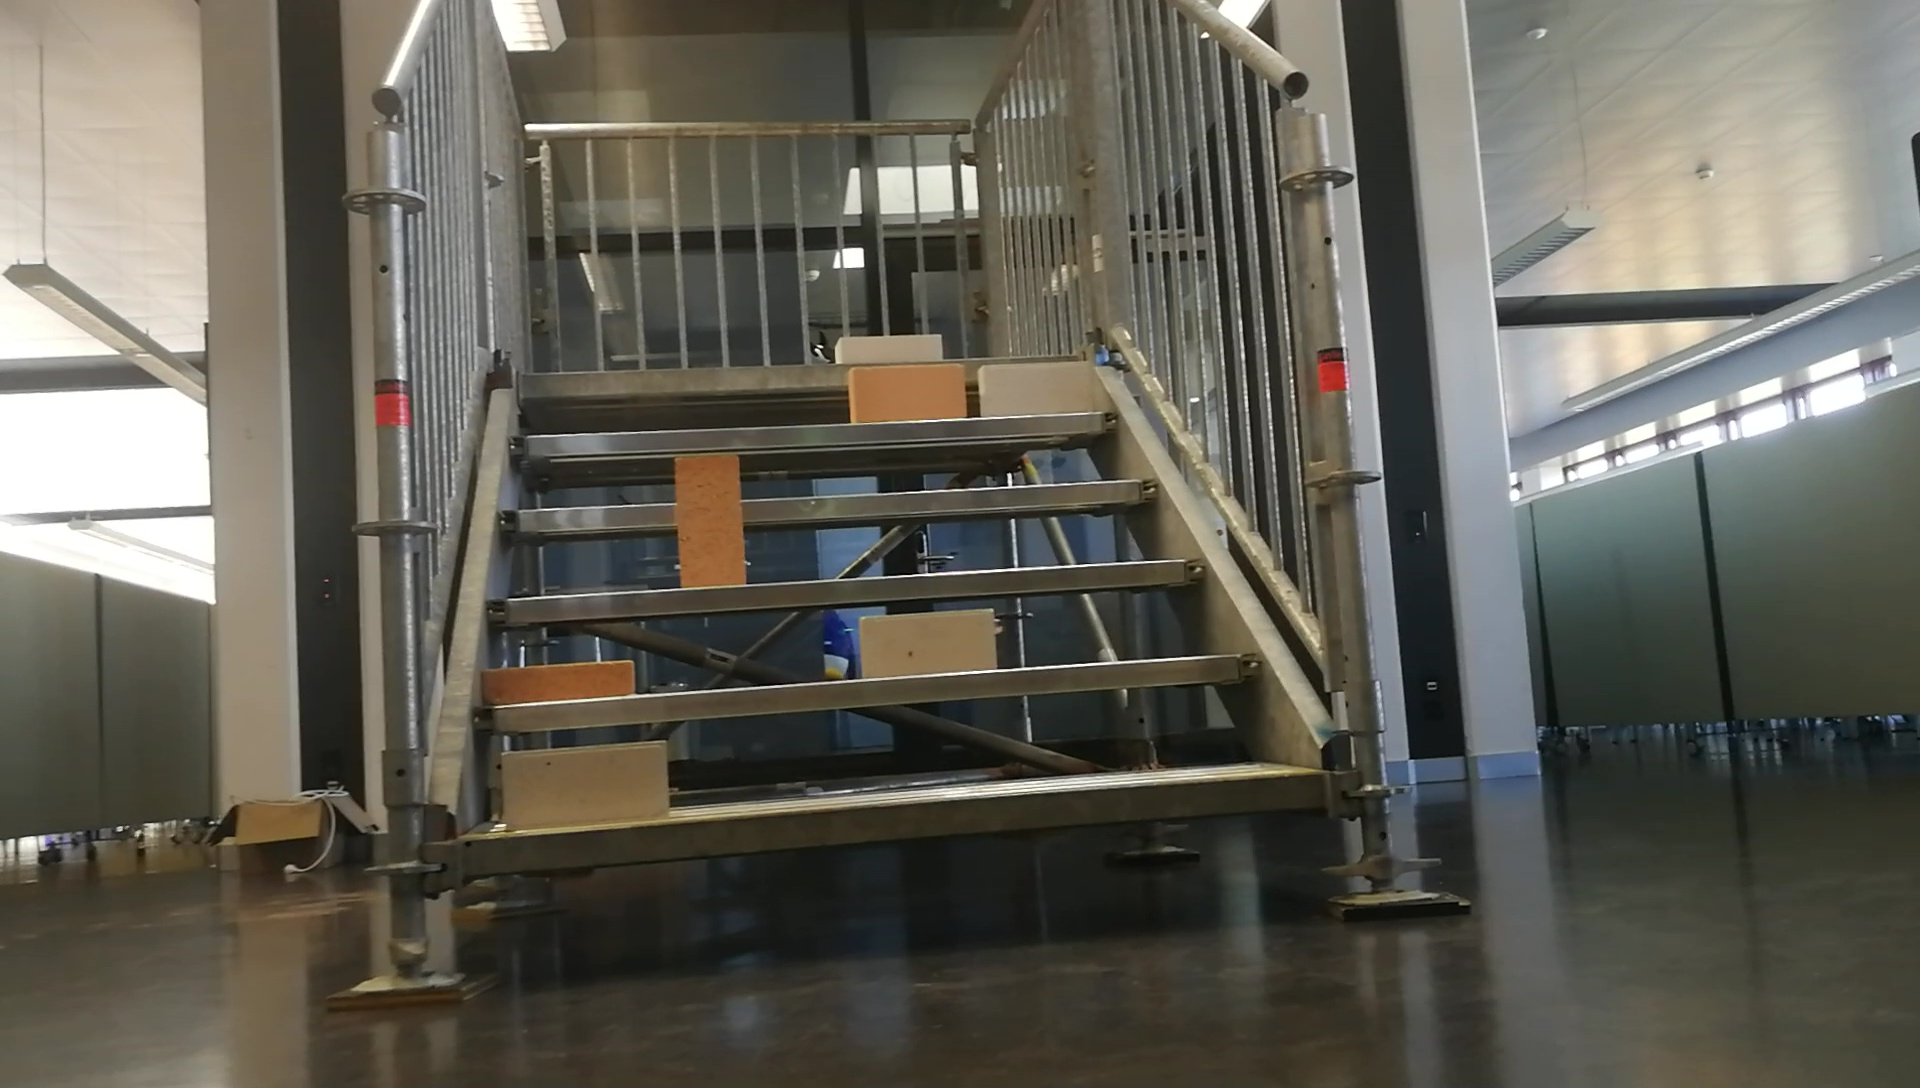brick: (502, 742, 662, 822), (862, 609, 992, 677), (679, 455, 738, 588), (849, 359, 963, 415), (487, 661, 636, 700), (982, 363, 1095, 413), (835, 335, 940, 360)
edge: (448, 768, 1332, 876), (462, 655, 1269, 733), (487, 557, 1207, 625), (498, 475, 1155, 531), (510, 410, 1120, 454)
stairs: (319, 0, 1477, 1004)
steps: (425, 326, 1348, 895)
